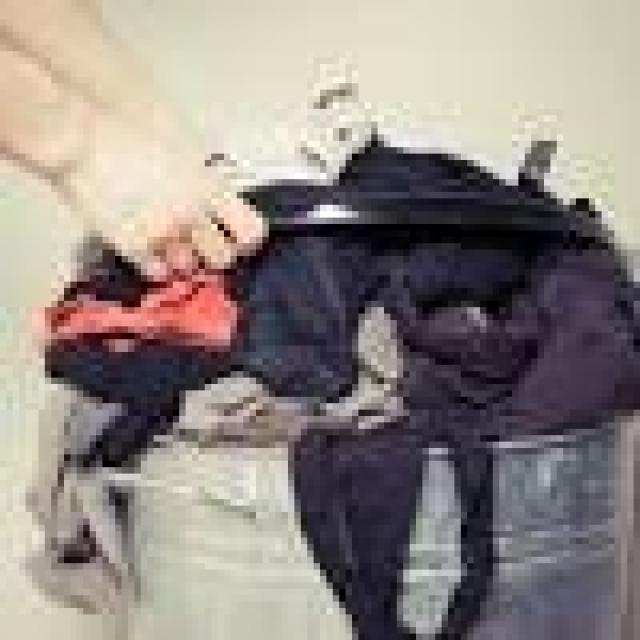Clothes -Biodegradable-: (17, 131, 640, 640)
